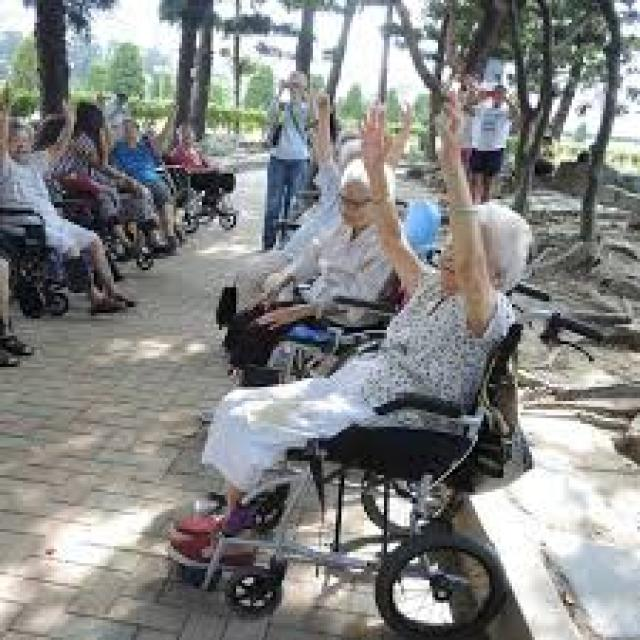wheelchairs: (168, 285, 603, 637), (210, 242, 430, 392)
